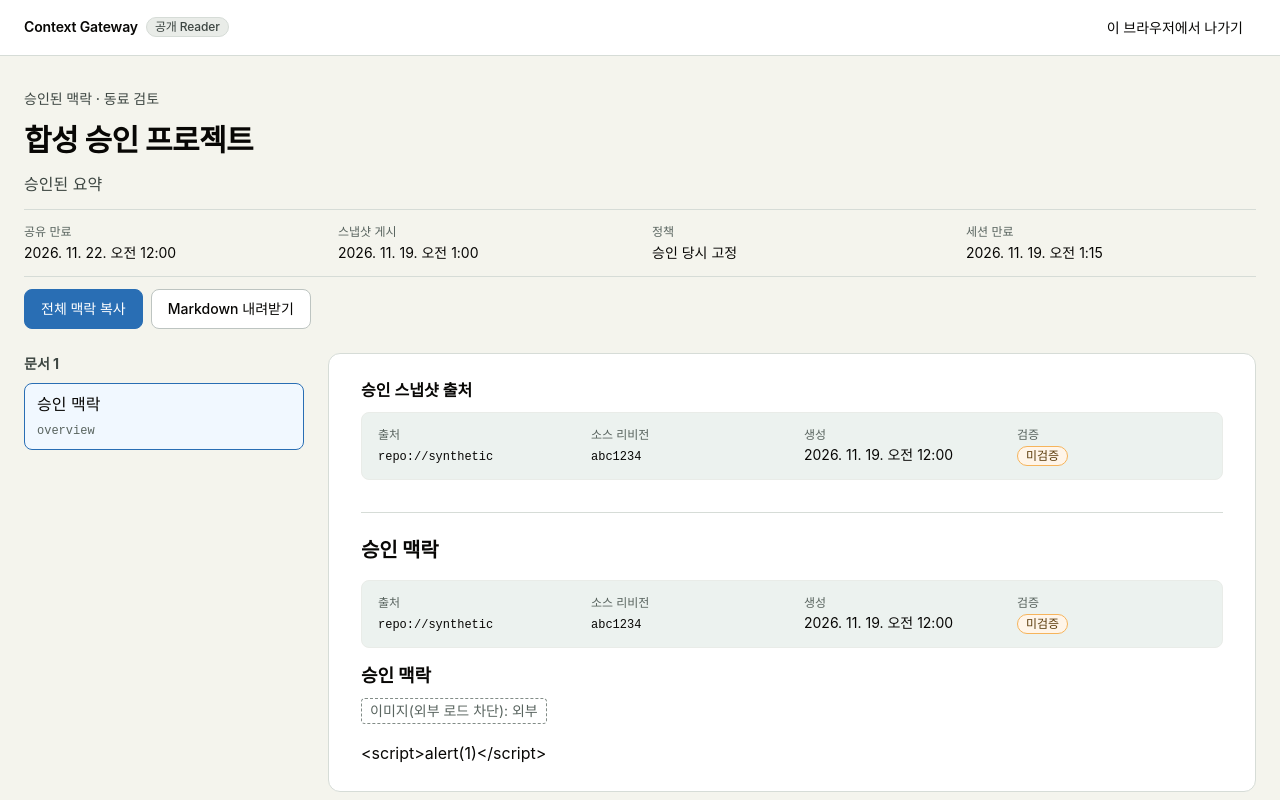
Test case: 공개 공유 Reader › export 권한이 취소되어 서버가 403을 반환하면 응답 본문을 노출하지 않는다
Expected: the heading "합성 승인 프로젝트" is shown, [24,122,253,158]
Click the button "Markdown 내려받기" at (231, 309), box [151,289,311,329]
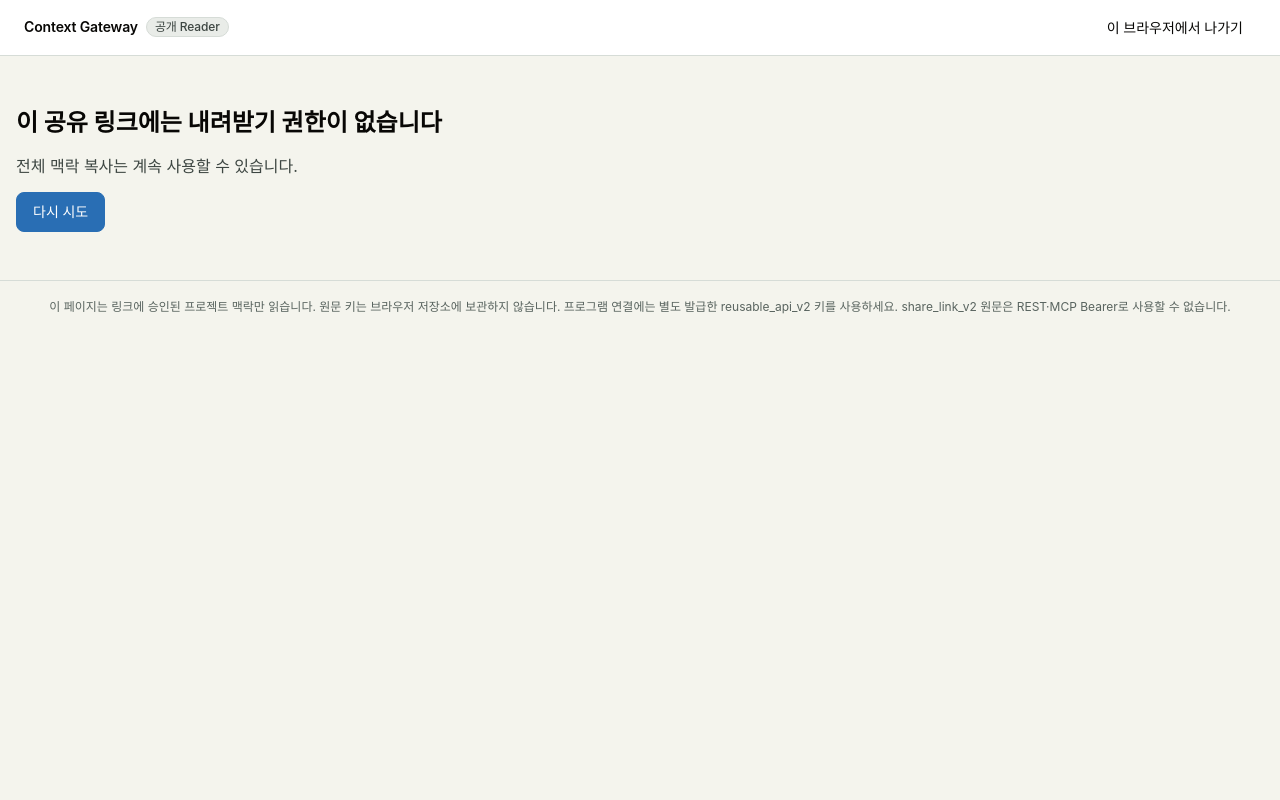
Expected: the message shows "이 공유 링크에는 내려받기 권한이 없습니다", [16,108,442,137]
